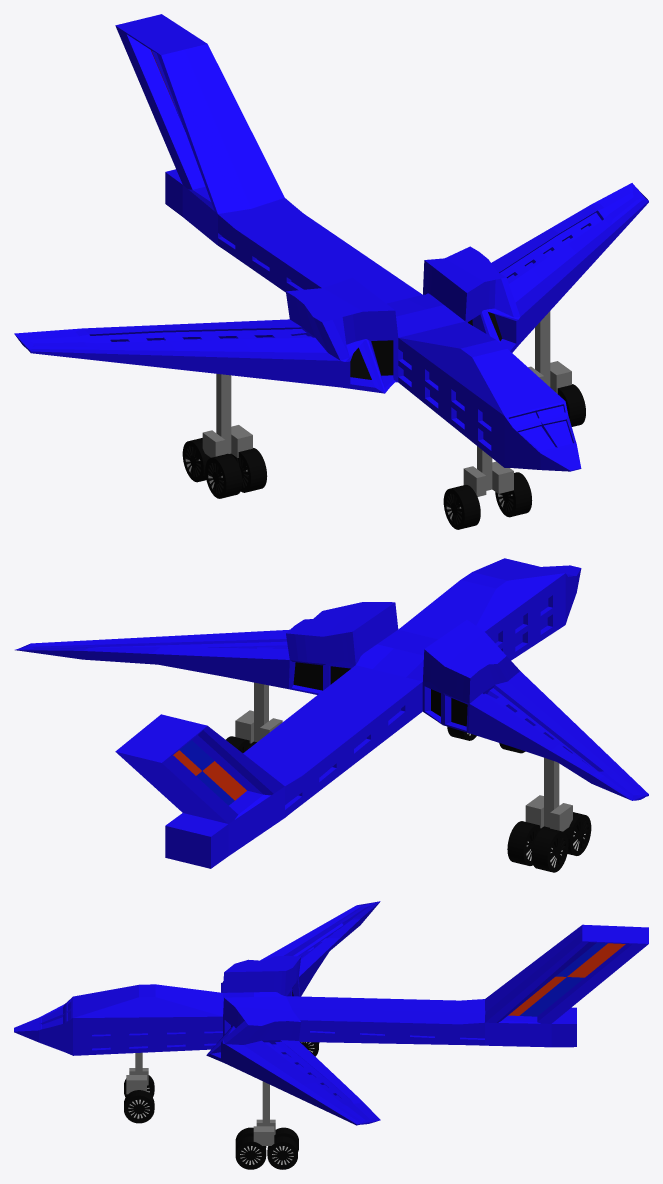
The picture shows the model from 3 angles, top to bottom: view 1: azimuth 30°, elevation 25°; view 2: azimuth 150°, elevation 25°; view 3: azimuth 270°, elevation 25°; orthographic projection. The views are drawn at different scales.
Parts seen in each view (by area): view 1: plane_2; view 2: plane_2; view 3: plane_2.
Part boxes in pixels (x1,y1,x2,y2): plane_2: (14, 14, 648, 529); plane_2: (15, 558, 648, 872); plane_2: (14, 901, 648, 1169).
Bounding box in the file's own units: 540 × 206 × 662.
